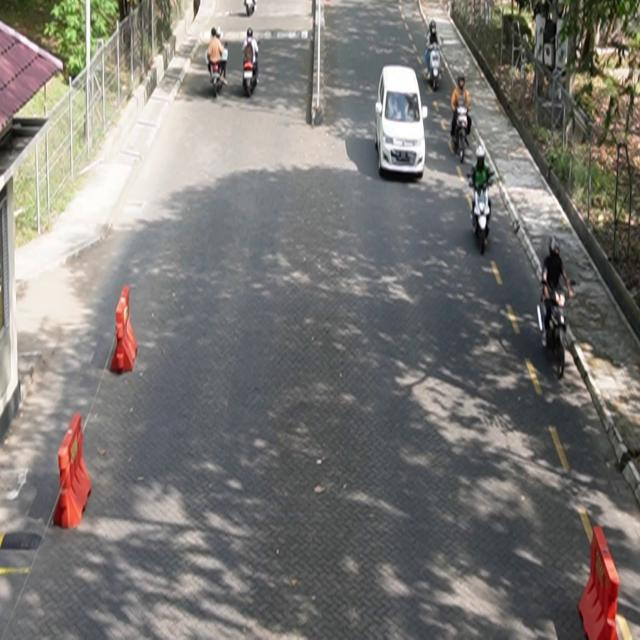car: (375, 65, 429, 179)
